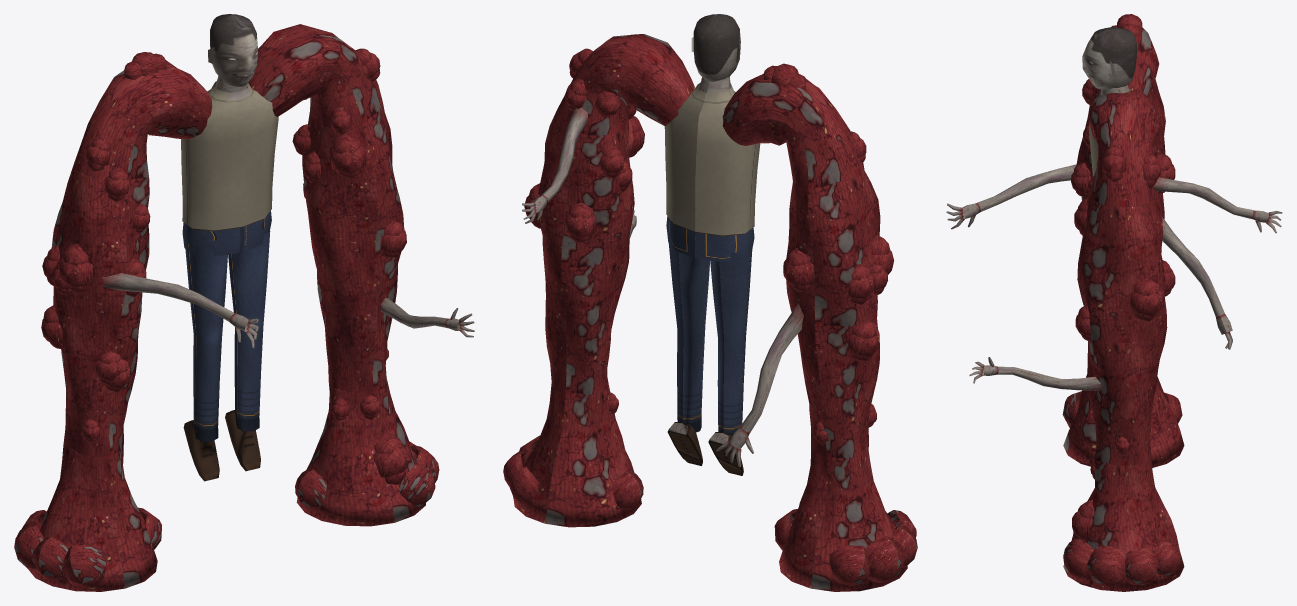
Rendered from brute_twoarm_m01.glb.
The picture shows the model from 3 angles, left to right: view 1: azimuth 30°, elevation 25°; view 2: azimuth 150°, elevation 25°; view 3: azimuth 270°, elevation 25°; orthographic projection. The views are drawn at different scales.
Visible parts, largest first — view 1: brute_twoarm_m01; view 2: brute_twoarm_m01; view 3: brute_twoarm_m01.
Boxes of the visible parts, x1,y1,x2,y2 form: brute_twoarm_m01: (14,14,474,591); brute_twoarm_m01: (503,14,917,591); brute_twoarm_m01: (946,14,1282,591).
Bounding box in the file's own units: 2.26 × 2.87 × 1.78.
1 material, 1 textured.
